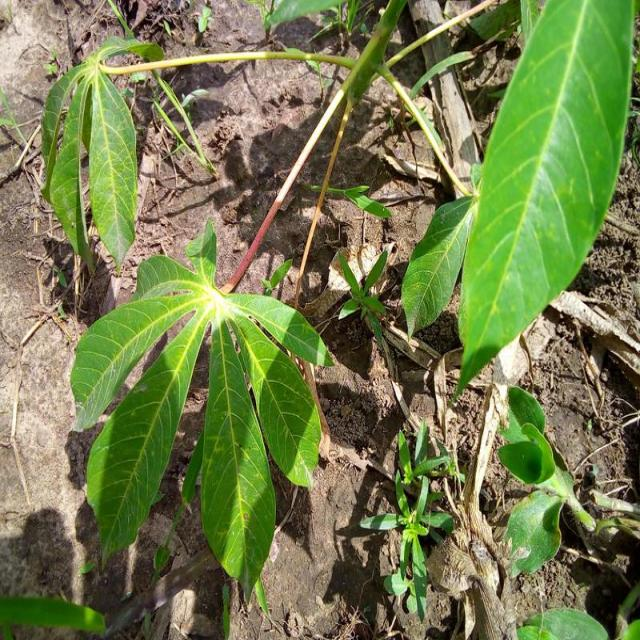cassava leaf: (70, 218, 334, 614), (454, 0, 636, 397)
